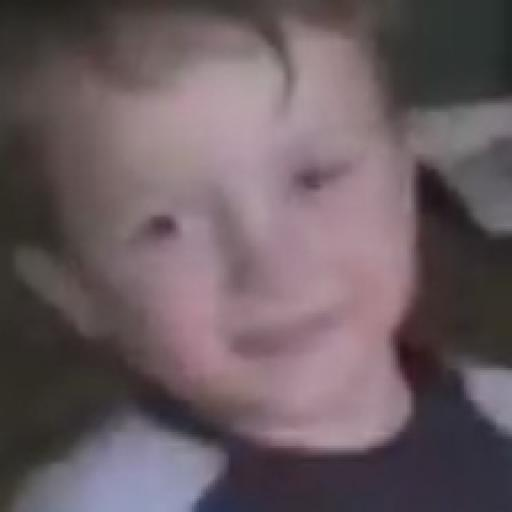Autism: (25, 10, 479, 464)
